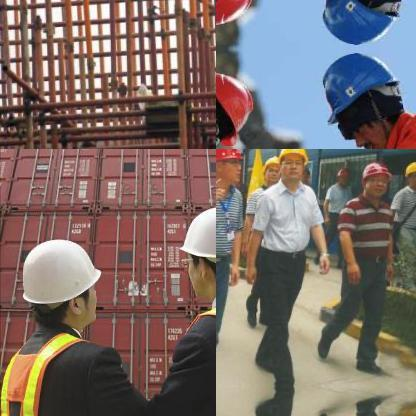Helmet: (10, 232, 112, 340), (308, 51, 415, 148), (308, 0, 415, 45), (170, 199, 215, 304), (216, 63, 261, 148), (216, 0, 261, 32), (360, 160, 392, 200), (277, 149, 307, 184), (216, 149, 244, 184), (262, 153, 280, 185), (401, 160, 415, 190), (334, 166, 350, 186)
